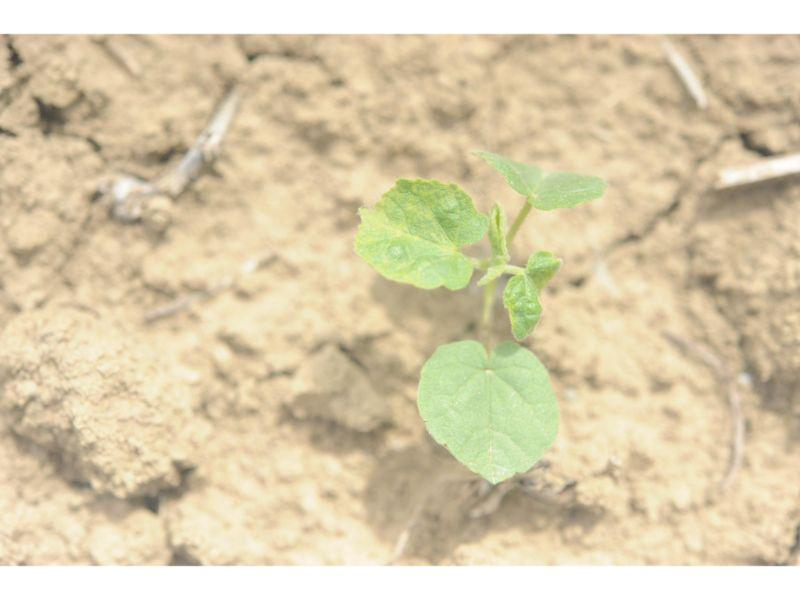velvet: (356, 151, 612, 485)
